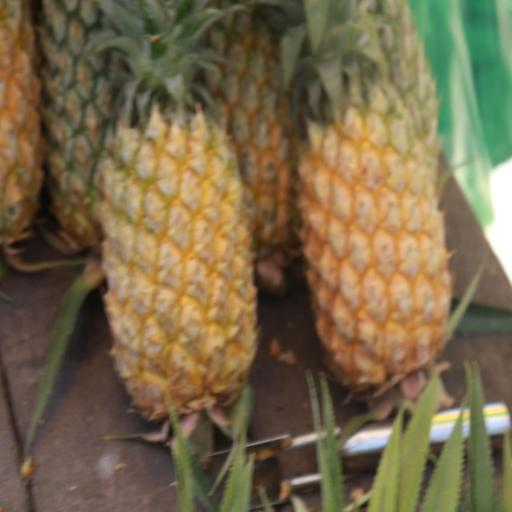Pineapple - v8 v1: (96, 0, 263, 440), (289, 0, 460, 398)
